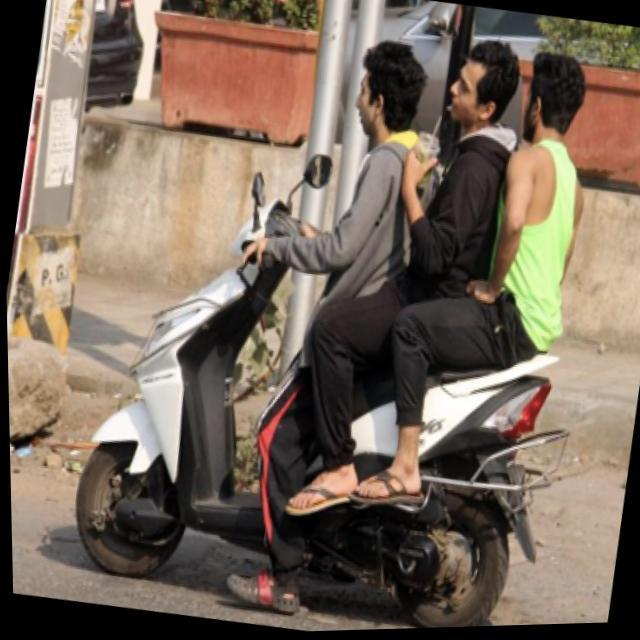Nonhelmet: (346, 24, 426, 136), (439, 29, 515, 145), (518, 44, 598, 148)
